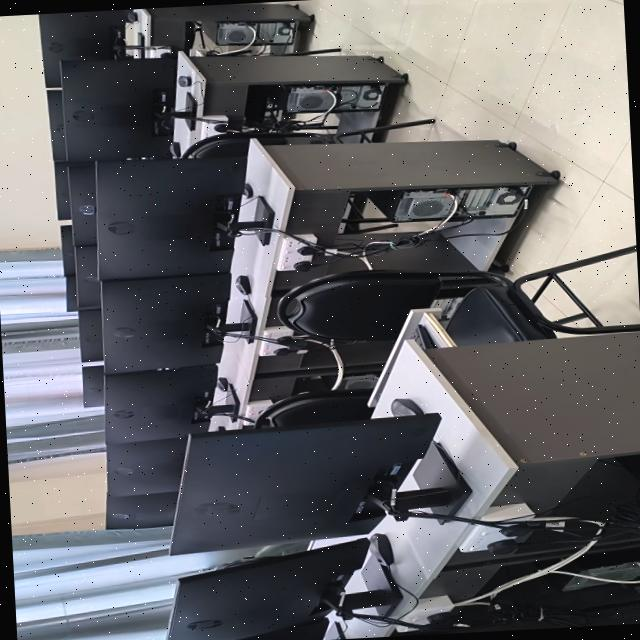Chair: (276, 245, 640, 345), (254, 389, 372, 428), (191, 138, 248, 158)
Cpu: (393, 186, 531, 234), (283, 85, 382, 113), (212, 21, 293, 52)
Monitor: (170, 412, 439, 554), (166, 538, 368, 640), (97, 158, 245, 281), (102, 274, 230, 374), (61, 58, 175, 161), (104, 364, 216, 445), (38, 10, 125, 87), (105, 431, 194, 496), (105, 491, 176, 529), (68, 164, 96, 246), (74, 246, 100, 309), (46, 90, 66, 161), (78, 310, 102, 362), (53, 162, 70, 220), (81, 366, 103, 408), (61, 226, 74, 276), (65, 276, 81, 311)
Mouse: (368, 534, 393, 566), (390, 399, 421, 416), (234, 275, 249, 295), (215, 378, 227, 391), (242, 183, 252, 198), (177, 76, 190, 87), (127, 12, 137, 23)
